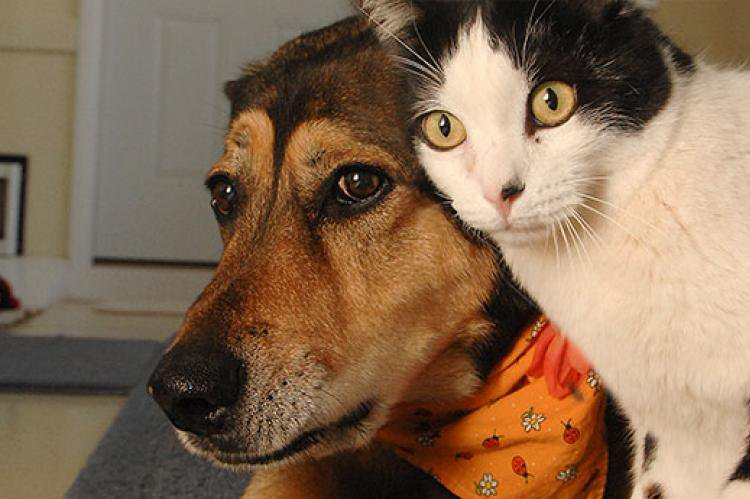cat: (394, 3, 750, 444)
dog: (146, 2, 483, 467)
